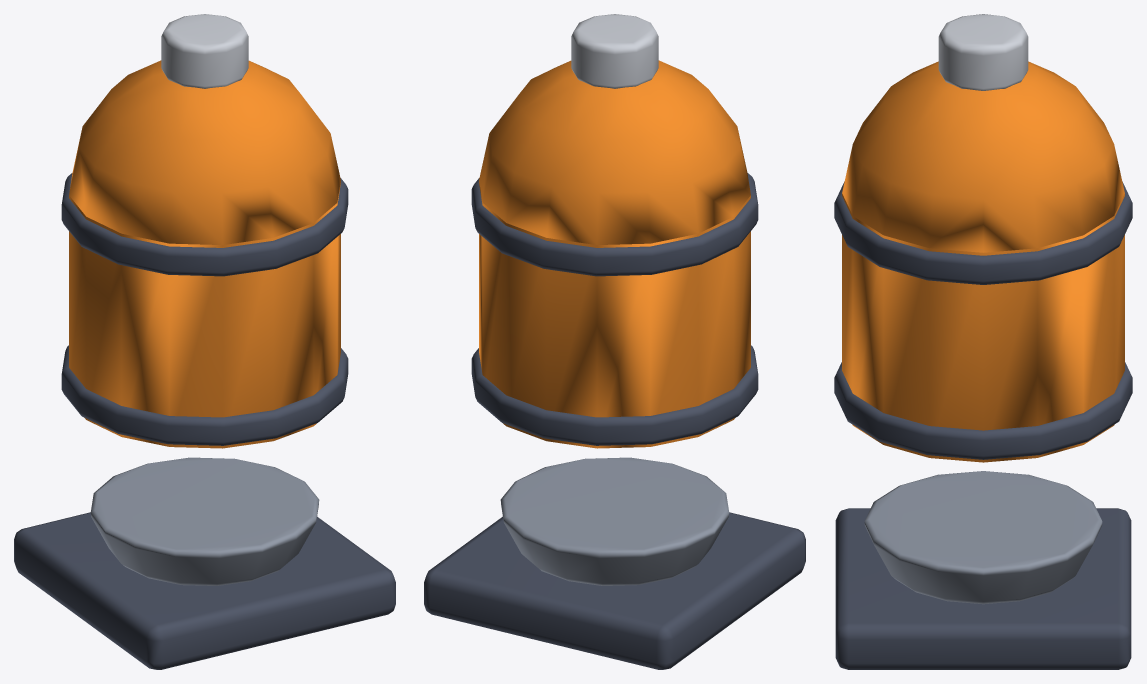
Rendered from Part_FuelTank.fbx.
The picture shows the model from 3 angles, left to right: view 1: azimuth 30°, elevation 25°; view 2: azimuth 150°, elevation 25°; view 3: azimuth 270°, elevation 25°; orthographic projection. The views are drawn at different scales.
Visible parts, largest first — view 1: Part_FuelTank.Shell, Part_FuelTank.Plinth, Part_FuelTank.Cradle, Part_FuelTank.Band1, Part_FuelTank.Band2, Part_FuelTank.Cap; view 2: Part_FuelTank.Shell, Part_FuelTank.Plinth, Part_FuelTank.Cradle, Part_FuelTank.Band1, Part_FuelTank.Band2, Part_FuelTank.Cap; view 3: Part_FuelTank.Shell, Part_FuelTank.Plinth, Part_FuelTank.Cradle, Part_FuelTank.Band1, Part_FuelTank.Band2, Part_FuelTank.Cap.
Part boxes in pixels (x1,y1,x2,y2): Part_FuelTank.Shell: (69,60,340,448); Part_FuelTank.Plinth: (14,512,395,669); Part_FuelTank.Cradle: (90,457,319,585); Part_FuelTank.Band1: (61,173,348,276); Part_FuelTank.Band2: (61,345,348,445); Part_FuelTank.Cap: (161,14,248,88); Part_FuelTank.Shell: (479,60,750,448); Part_FuelTank.Plinth: (424,512,805,669); Part_FuelTank.Cradle: (500,457,729,585); Part_FuelTank.Band1: (471,173,758,276); Part_FuelTank.Band2: (471,345,758,445); Part_FuelTank.Cap: (571,14,658,88); Part_FuelTank.Shell: (842,61,1124,462); Part_FuelTank.Plinth: (835,508,1131,669); Part_FuelTank.Cradle: (864,471,1102,604); Part_FuelTank.Band1: (834,181,1132,284); Part_FuelTank.Band2: (834,362,1132,459); Part_FuelTank.Cap: (938,14,1028,90).
Bounding box in the file's own units: 0.464 × 1 × 0.464.
Materials: 1 (1 with a texture image).
